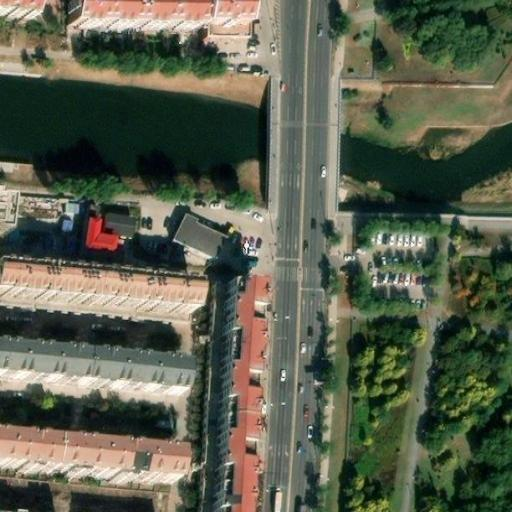building: (0, 263, 198, 316), (214, 282, 258, 512), (0, 433, 179, 485), (0, 344, 186, 394), (202, 283, 226, 512), (71, 0, 204, 27), (173, 209, 232, 262), (85, 214, 137, 257), (204, 0, 244, 28), (0, 188, 19, 227)
